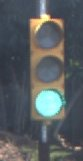Green: (25, 16, 68, 123)
